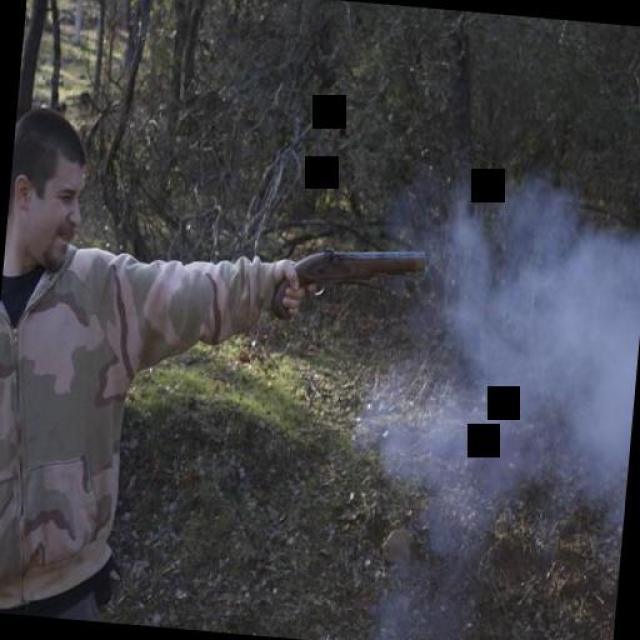gun: (270, 235, 426, 329)
